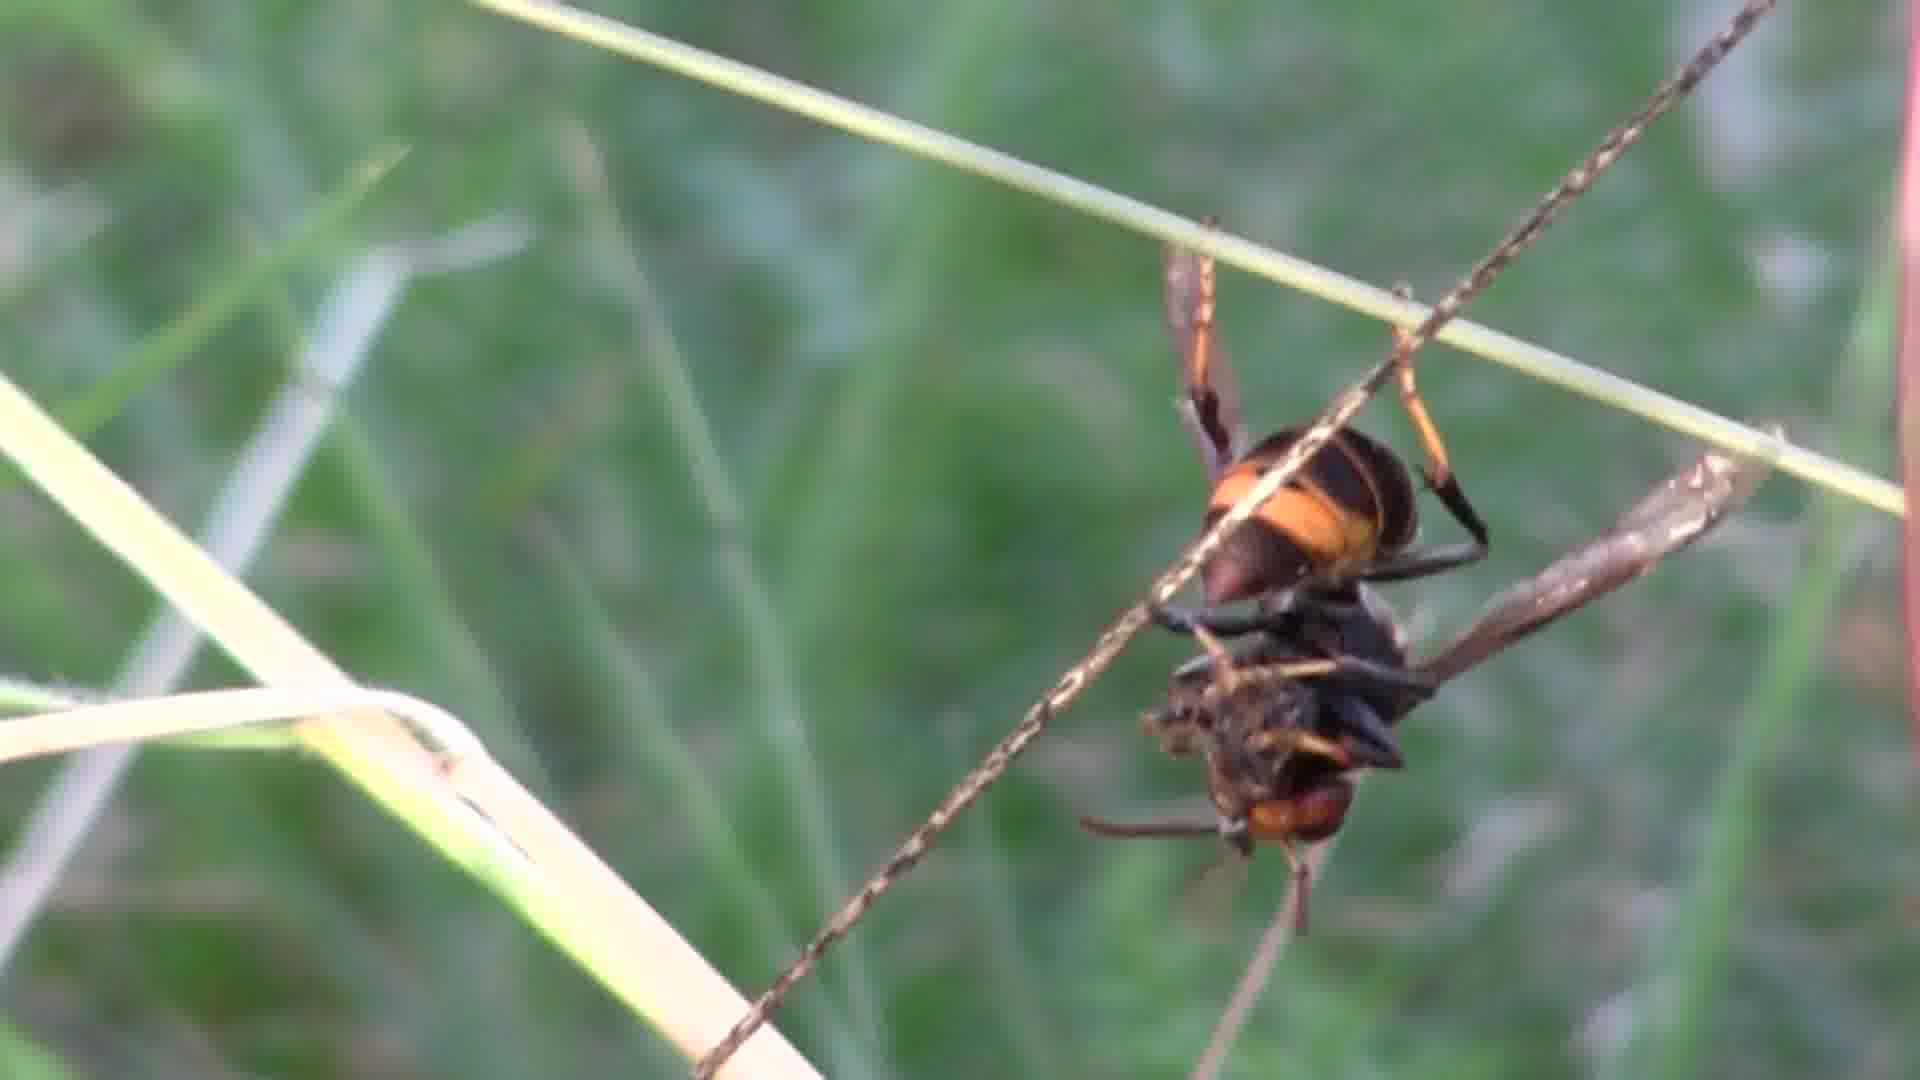hornet: (1116, 247, 1520, 903)
